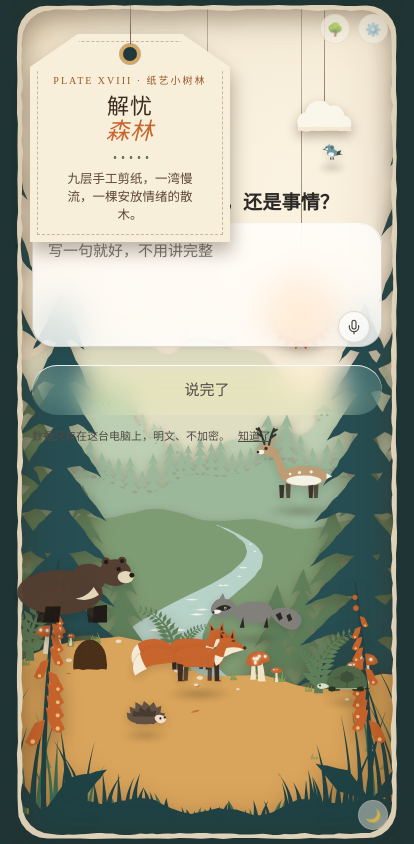
四幕界面逐幕走查 › 思考层失败时只显示未完成，不填示例稿
Type "今天被拒了" into the text box with placeholder "写一句就好，不用讲完整".
click(207, 285); type("今天被拒了")  # box [32,223,382,347]
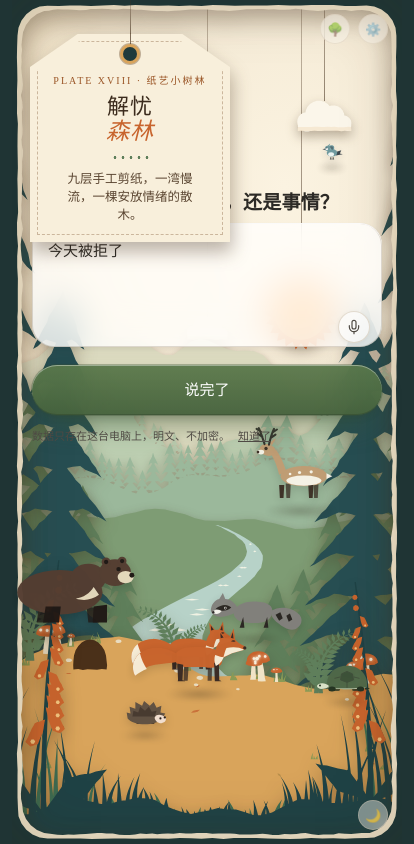
Click the button "说完了".
click(207, 390)  # box [32,365,382,416]
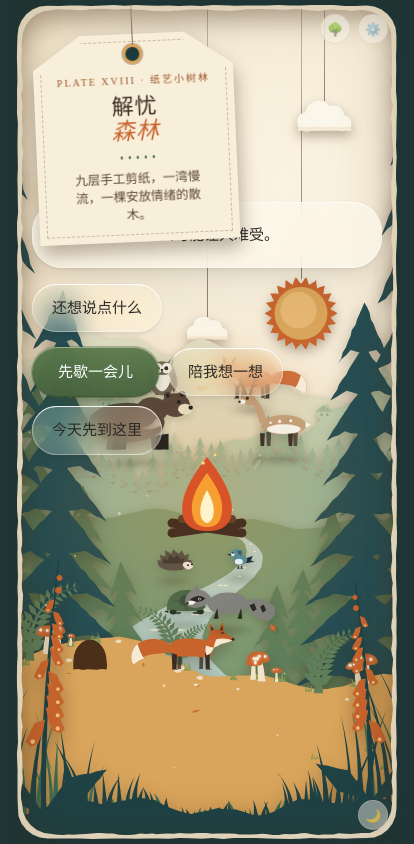
expect the text "被这样对待，确实可能让人难受。" is shown: met, box [32,202,382,268]
Click the button "陪我想一想".
click(226, 372)  # box [168,348,283,396]
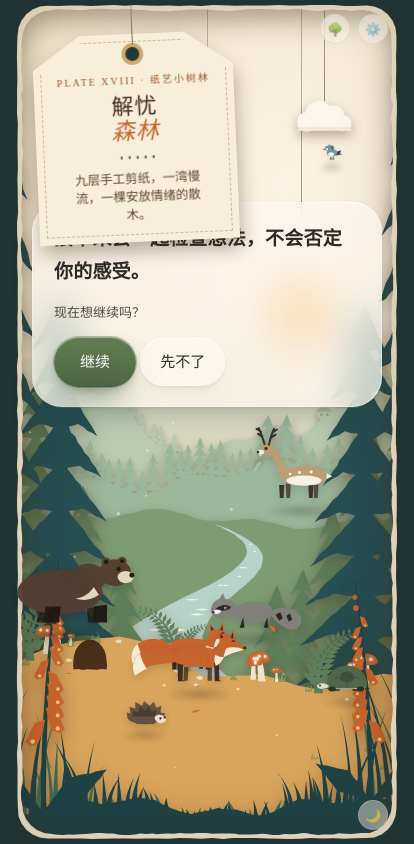
expect the button "继续" is shown: met
Click the button "继续".
click(95, 362)  # box [54,337,136,387]
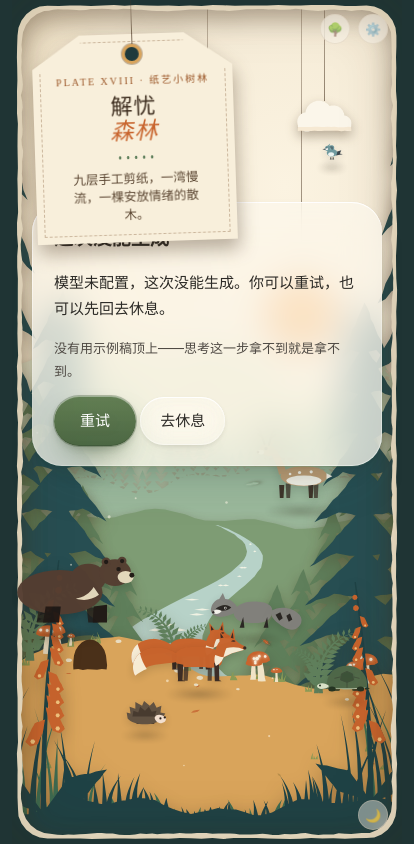
expect the heading "这次没能生成" is shown: met, box [54,227,169,250]
expect the text "没有用示例稿顶上——思考这一步拿不到就是拿不到。" is shown: met, box [54,337,360,383]
